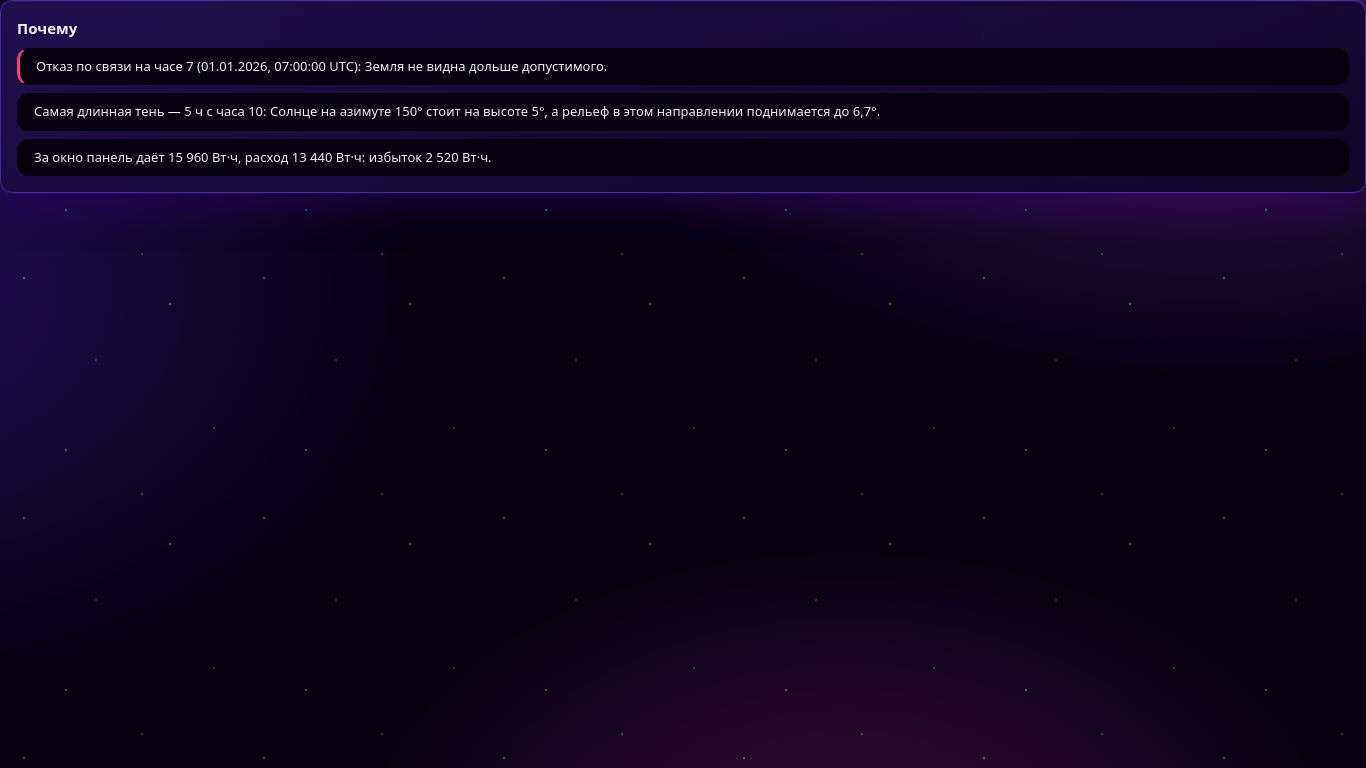
Test: WhyPanel › moves the timeline cursor to the hour of an explanation
Step 1. Click the 1st button → (322, 66), box [17,48,1349,85]
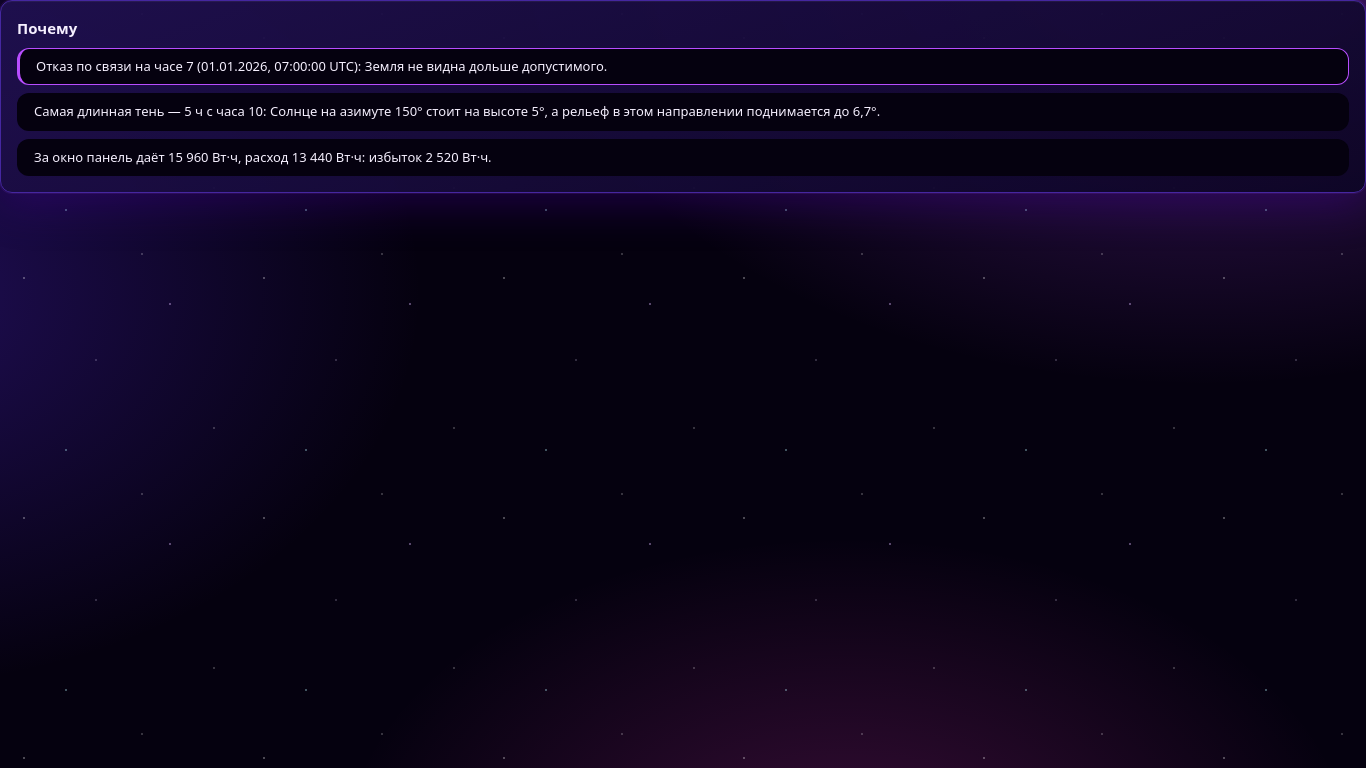
Expected: the 1st button is marked as current, [17,48,1349,85]
